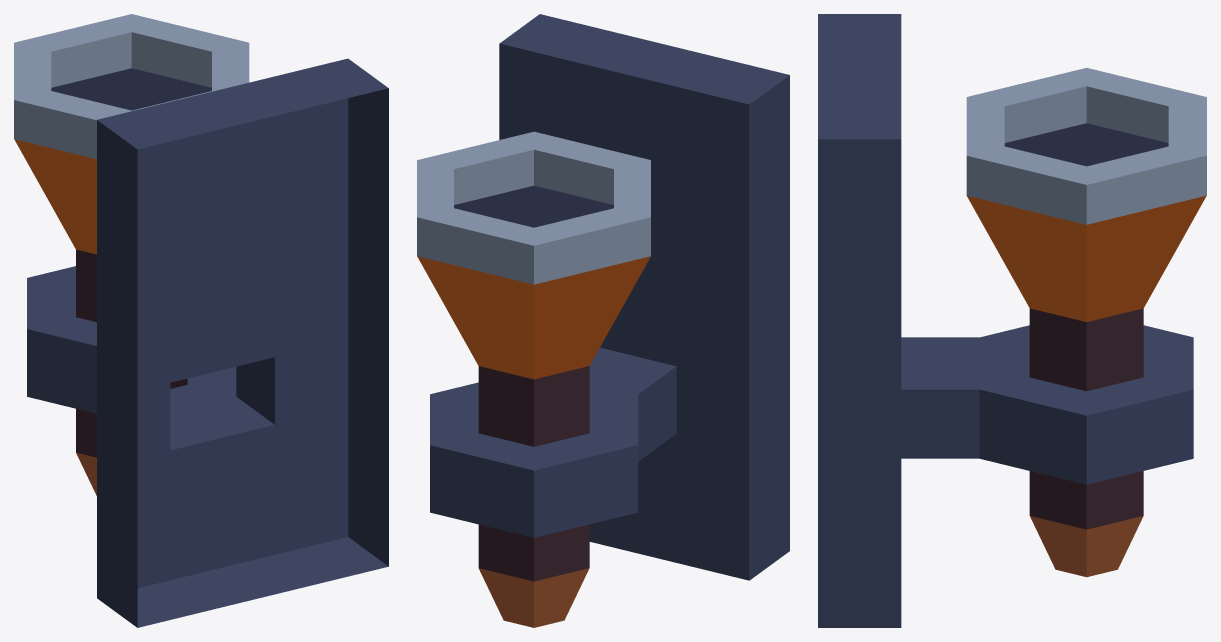
File: torch.glb
3 views of the same model, side by side, from view 1: azimuth 30°, elevation 25°; view 2: azimuth 150°, elevation 25°; view 3: azimuth 270°, elevation 25° (orthographic). The views are drawn at different scales.
Parts seen in each view (by area): view 1: Torch; view 2: Torch; view 3: Torch.
Boxes of the visible parts, left/top/right/bottom form: Torch: left=14, top=14, right=388, bottom=627; Torch: left=417, top=14, right=789, bottom=627; Torch: left=818, top=14, right=1206, bottom=627.
Size of the model in its own units: 0.3671 by 0.668 by 0.4814.
1 material, 1 textured.
